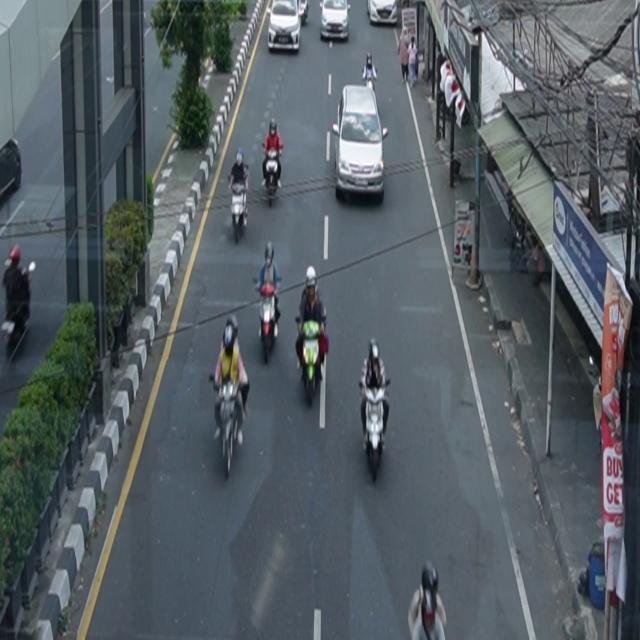car: (333, 84, 389, 203)
